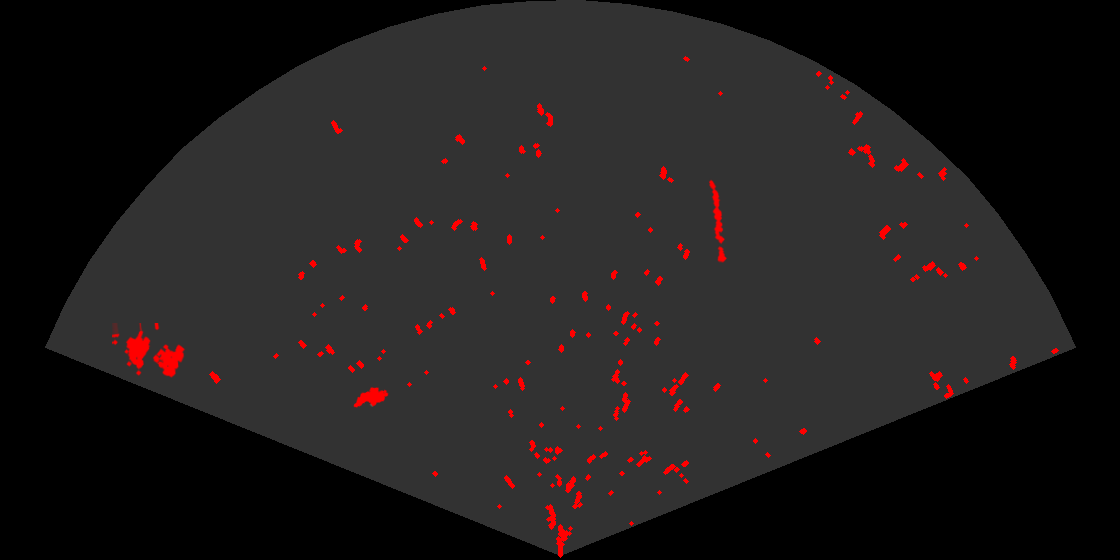AUV: (352, 385, 390, 409)
cage: (112, 323, 187, 379)
chain: (707, 178, 729, 263)
